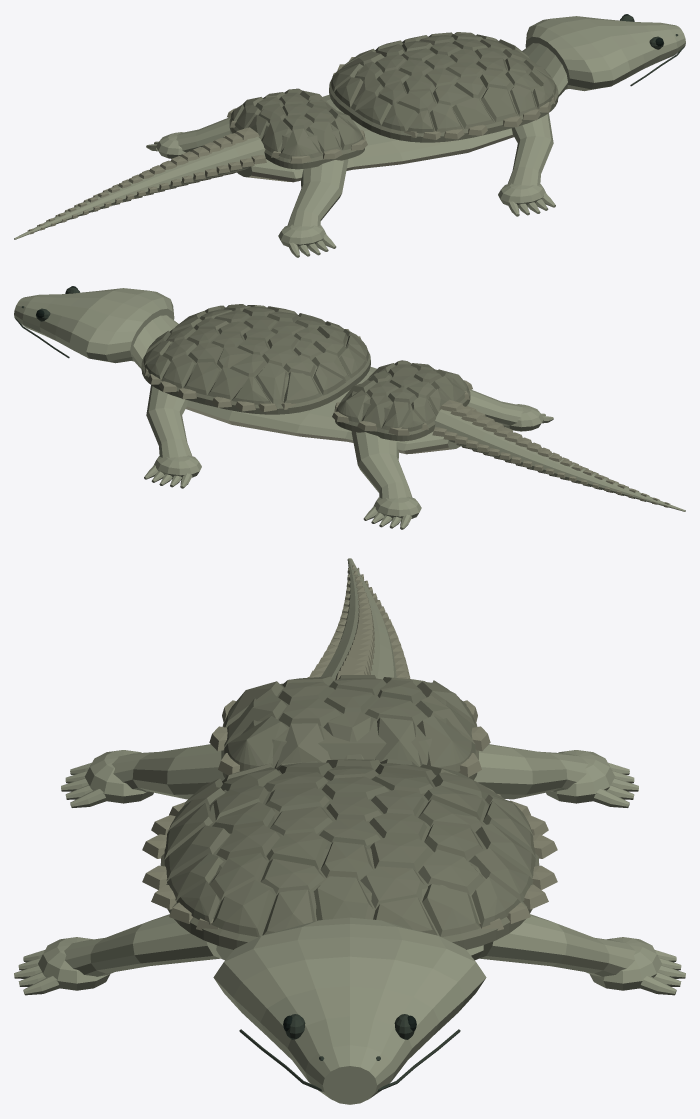
3 views of the same model, one above another, from view 1: azimuth 30°, elevation 25°; view 2: azimuth 150°, elevation 25°; view 3: azimuth 270°, elevation 25° (orthographic). The views are drawn at different scales.
Visible parts, largest first — view 1: separate_main_dorsal_shield, broad_short_triangular_head, separate_pelvic_dorsal_shield, soft_body_and_short_neck, hind_right_inferred_five_short_digits, fore_right_inferred_five_short_digits, four_diminishing_tail_armor_rows, tapered_tail_soft_tissue, modest_lateral_shield_osteoderms, hind_left_inferred_five_short_digits, small_eyes_nostrils_closed_mouth; view 2: separate_main_dorsal_shield, broad_short_triangular_head, separate_pelvic_dorsal_shield, soft_body_and_short_neck, hind_left_inferred_five_short_digits, fore_left_inferred_five_short_digits, four_diminishing_tail_armor_rows, tapered_tail_soft_tissue, hind_right_inferred_five_short_digits, modest_lateral_shield_osteoderms, small_eyes_nostrils_closed_mouth; view 3: separate_main_dorsal_shield, broad_short_triangular_head, separate_pelvic_dorsal_shield, fore_left_inferred_five_short_digits, fore_right_inferred_five_short_digits, hind_left_inferred_five_short_digits, hind_right_inferred_five_short_digits, modest_lateral_shield_osteoderms, four_diminishing_tail_armor_rows, tapered_tail_soft_tissue, small_eyes_nostrils_closed_mouth.
Part boxes in pixels (x1,y1,x2,y2): separate_main_dorsal_shield: (329, 32, 558, 142); broad_short_triangular_head: (525, 16, 685, 91); separate_pelvic_dorsal_shield: (229, 88, 364, 169); soft_body_and_short_neck: (237, 43, 568, 182); hind_right_inferred_five_short_digits: (278, 159, 348, 257); fore_right_inferred_five_short_digits: (498, 113, 555, 216); four_diminishing_tail_armor_rows: (27, 127, 266, 234); tapered_tail_soft_tissue: (14, 136, 265, 239); modest_lateral_shield_osteoderms: (227, 57, 555, 163); hind_left_inferred_five_short_digits: (146, 117, 232, 158); small_eyes_nostrils_closed_mouth: (620, 14, 683, 86); separate_main_dorsal_shield: (141, 304, 370, 414); broad_short_triangular_head: (14, 288, 174, 363); separate_pelvic_dorsal_shield: (335, 360, 470, 441); soft_body_and_short_neck: (132, 315, 460, 454); hind_left_inferred_five_short_digits: (351, 431, 421, 529); fore_left_inferred_five_short_digits: (144, 385, 201, 488); four_diminishing_tail_armor_rows: (432, 399, 669, 507); tapered_tail_soft_tissue: (434, 406, 685, 511); hind_right_inferred_five_short_digits: (467, 389, 553, 431); modest_lateral_shield_osteoderms: (144, 329, 472, 435); small_eyes_nostrils_closed_mouth: (15, 286, 79, 358); separate_main_dorsal_shield: (160, 759, 539, 949); broad_short_triangular_head: (213, 917, 486, 1104); separate_pelvic_dorsal_shield: (221, 675, 478, 780); fore_left_inferred_five_short_digits: (478, 914, 685, 995); fore_right_inferred_five_short_digits: (14, 914, 221, 995); hind_left_inferred_five_short_digits: (474, 744, 638, 807); hind_right_inferred_five_short_digits: (61, 744, 224, 807); modest_lateral_shield_osteoderms: (142, 700, 557, 930); four_diminishing_tail_armor_rows: (307, 565, 410, 680); tapered_tail_soft_tissue: (321, 558, 396, 680); small_eyes_nostrils_closed_mouth: (239, 1014, 460, 1091).
Size of the model in its own units: 0.728 by 0.0969 by 0.3445.
